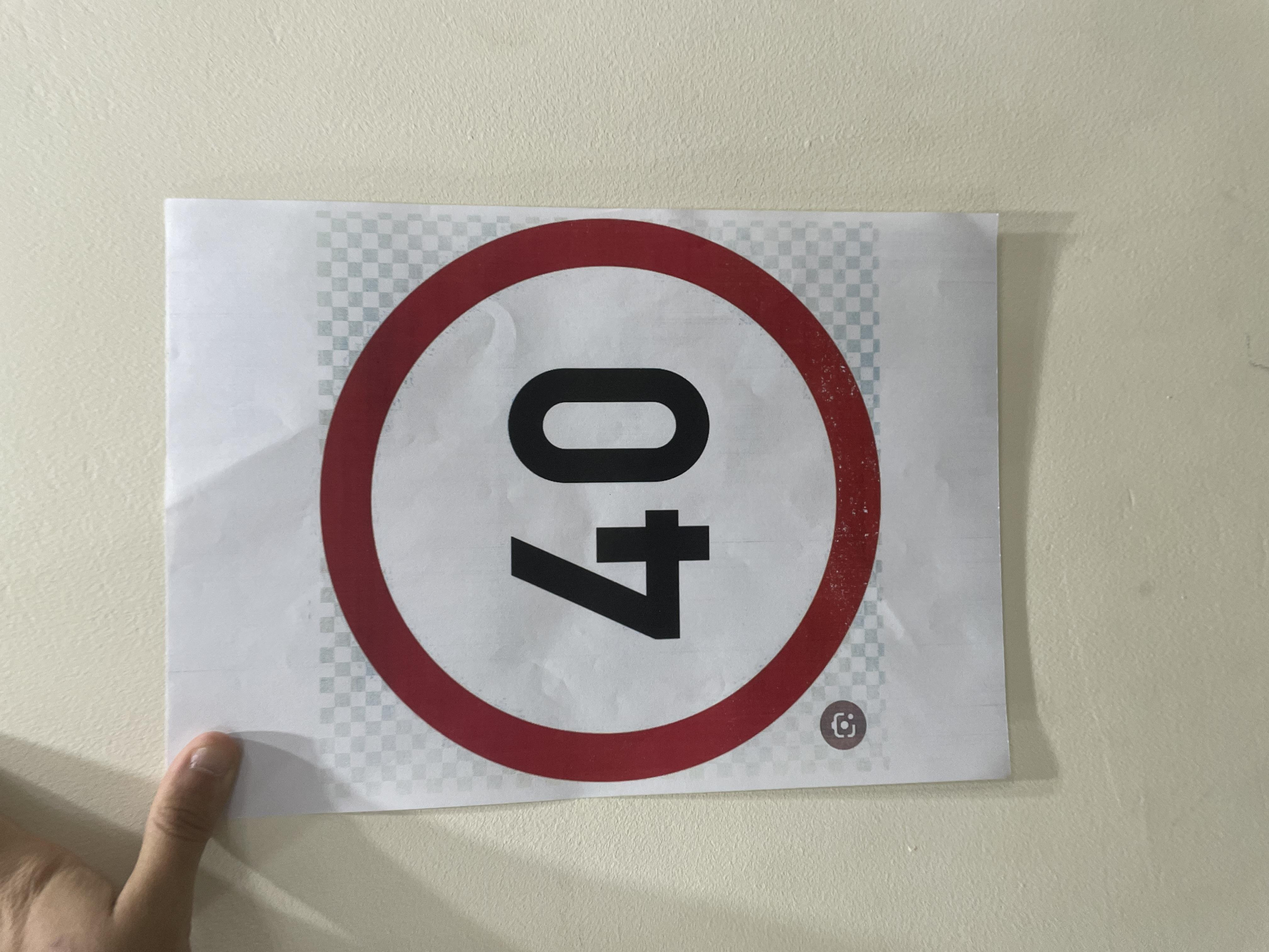40-Speed: (215, 232, 996, 670)
